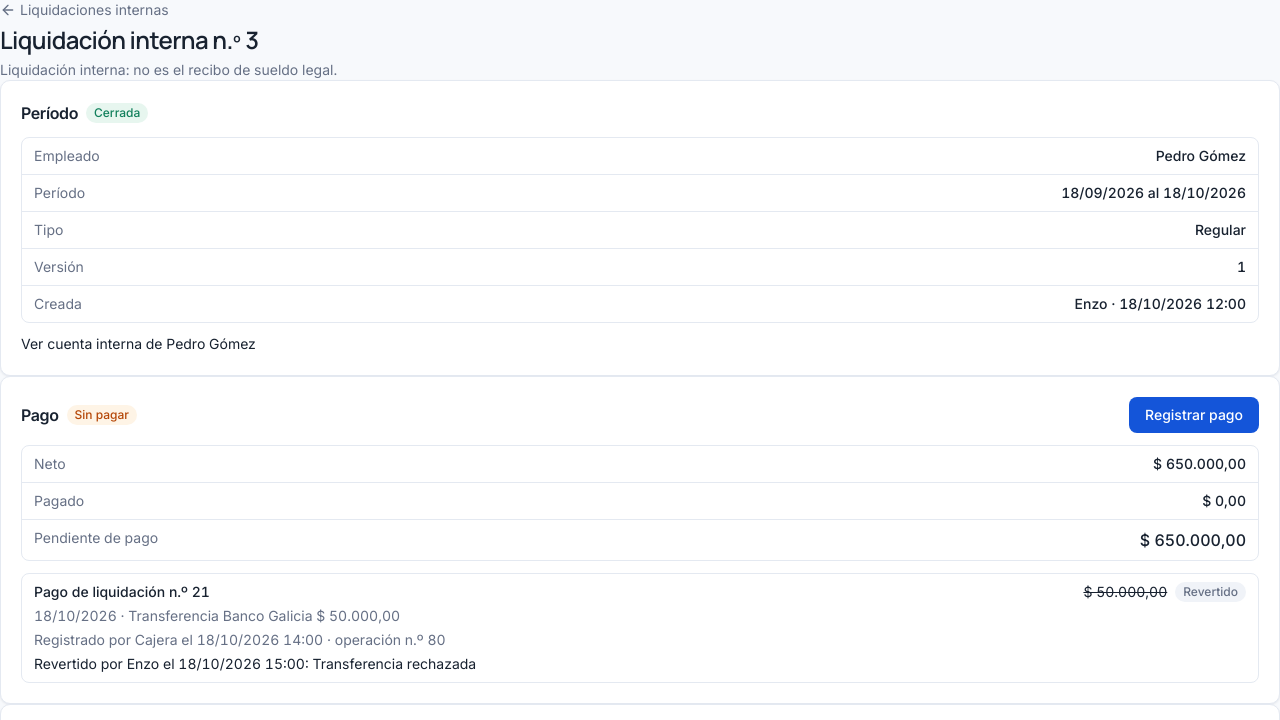
payouts of internal payrolls (R8-5) › never offers more than the pending nor a date before the period's end
Click the button "Registrar pago": {"x": 1194, "y": 415} [1129,397,1259,433]
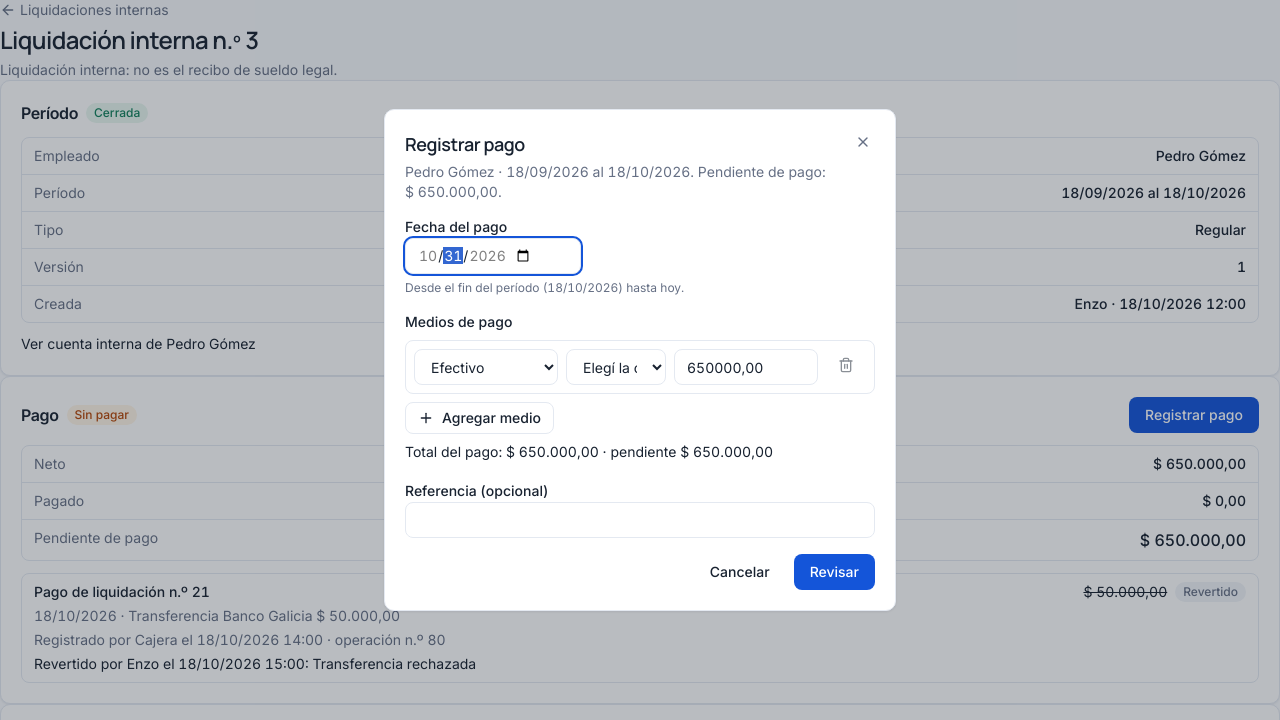
Select "Caja principal · saldo $ 500.000,00" in the dropdown named "Caja del medio 1": {"x": 616, "y": 367} [566,349,666,385]
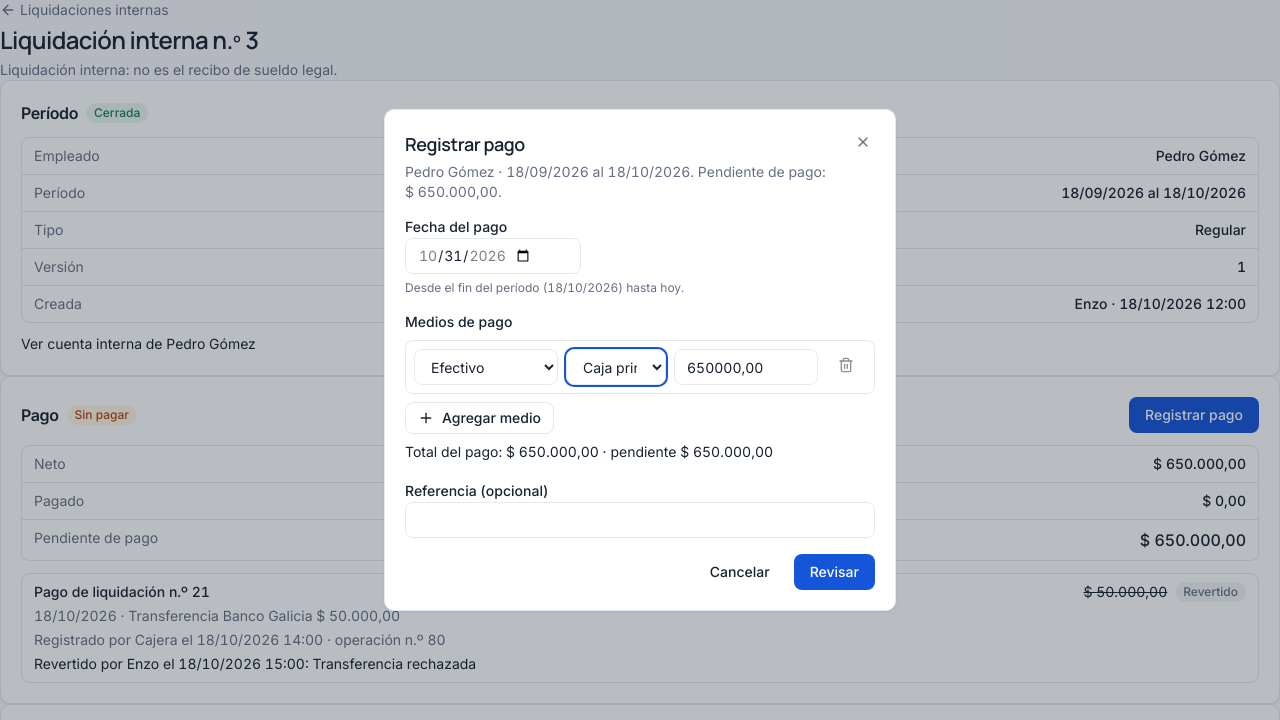
Replace the text in the field named "Importe del medio 1" with "650.000,01": {"x": 746, "y": 367} [674,349,818,385]
Click the button "Revisar": {"x": 834, "y": 572} [794,554,875,590]
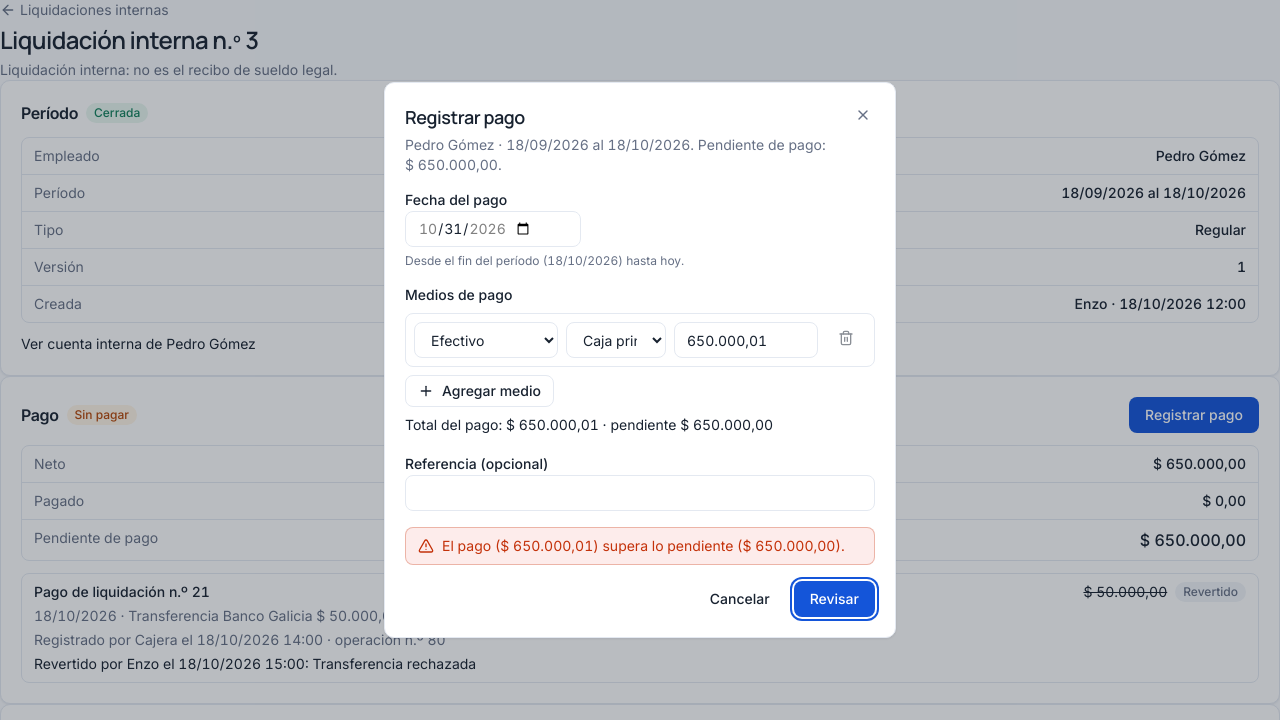
Expected: the message shows "supera lo pendiente", [442,537,845,554]
Replace the text in the field named "Importe del medio 1" with "1.000": {"x": 746, "y": 340} [674,322,818,358]
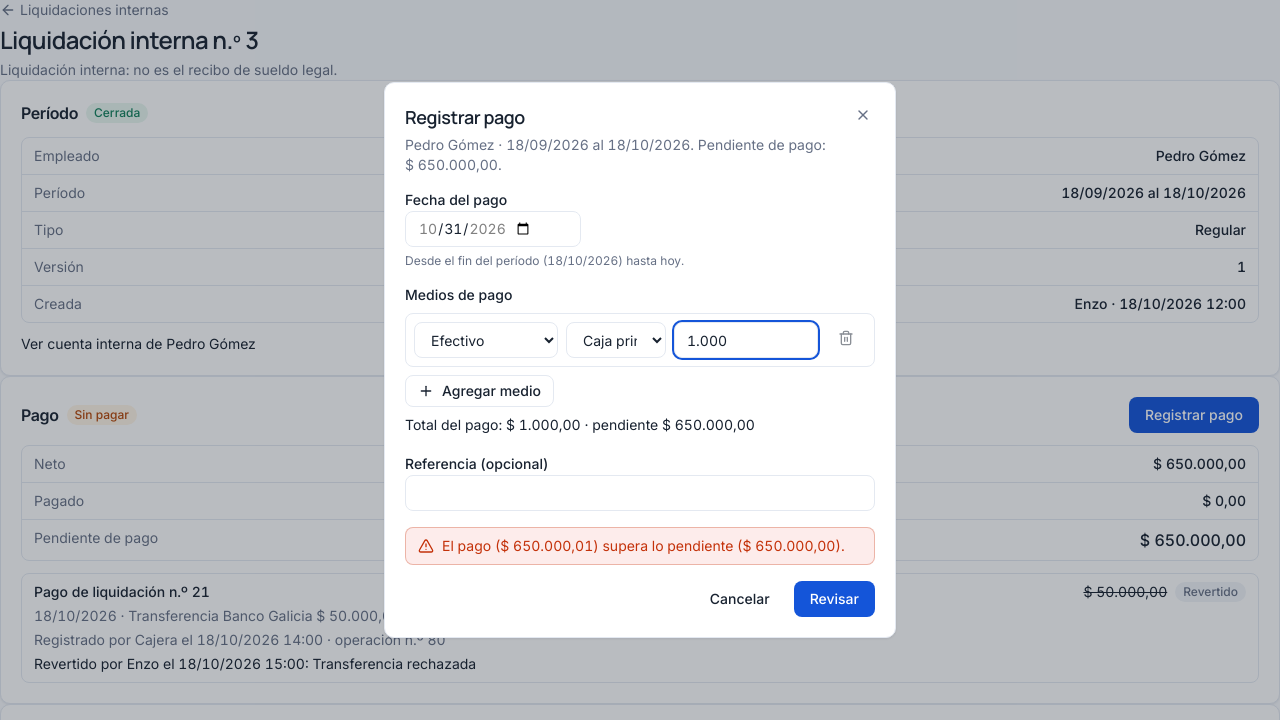
In the date field labelled "Fecha del pago": {"x": 493, "y": 229} [405,211,581,247], type "2026-10-17"
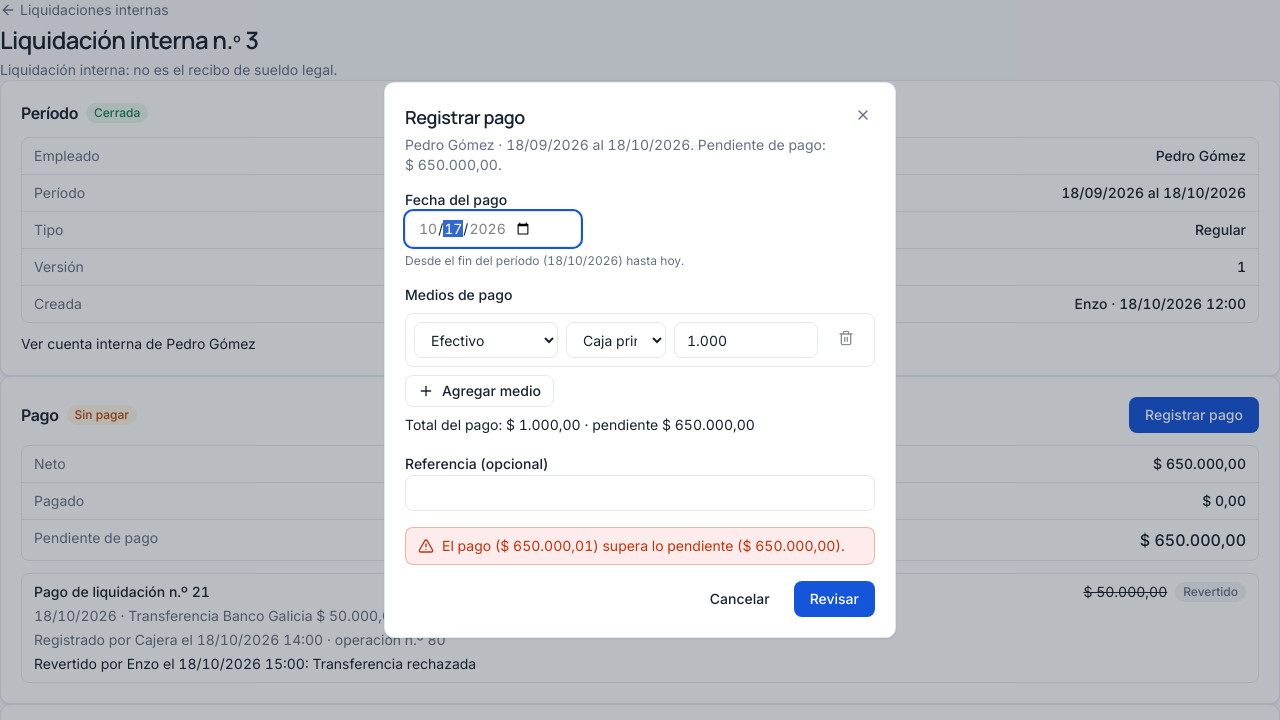
Click the button "Revisar": {"x": 834, "y": 599} [794,581,875,617]
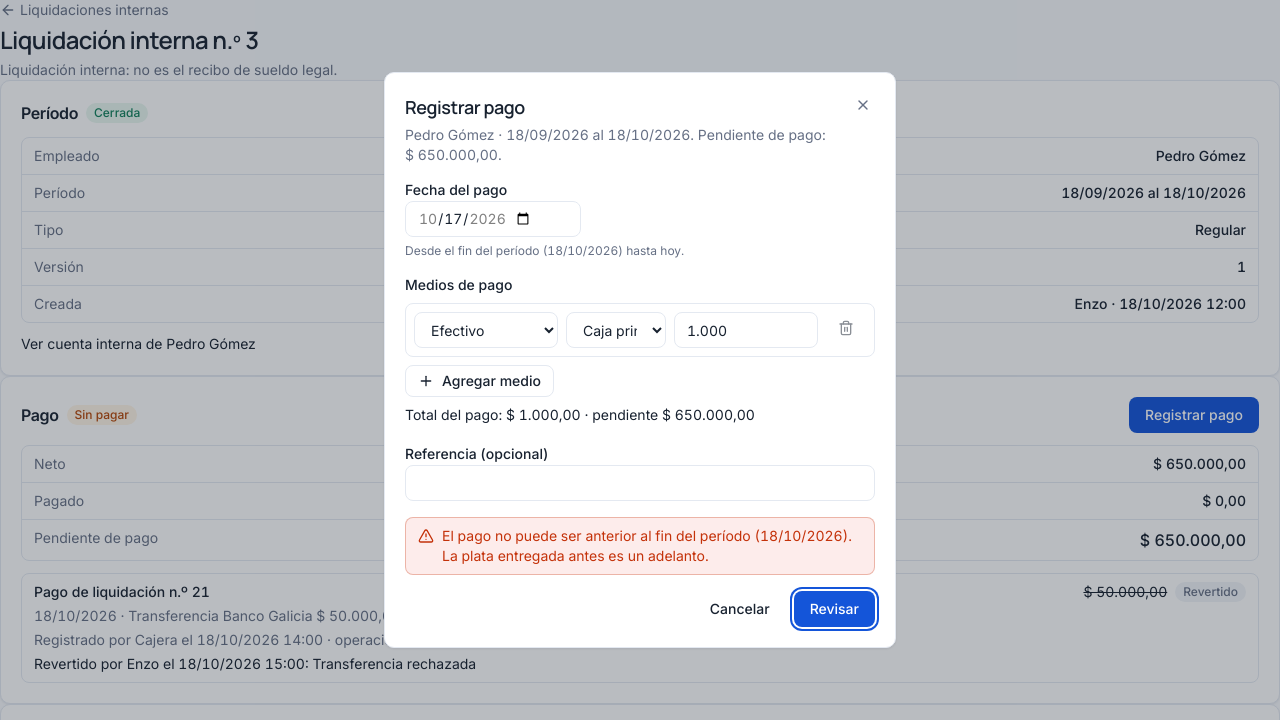
Expected: the message shows "es un adelanto", [442,527,852,564]
